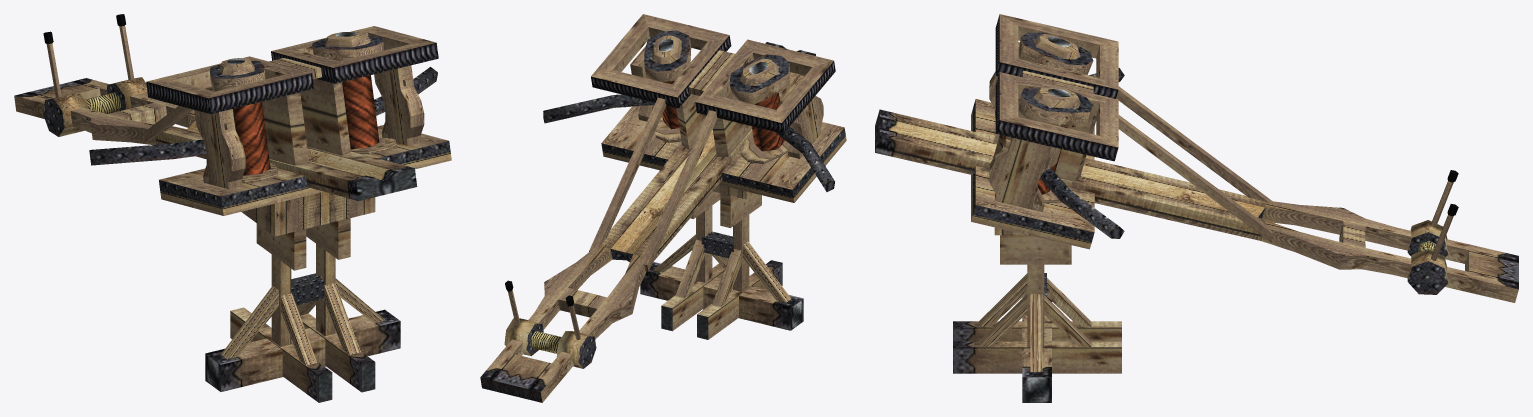
The model's file is kart_ballista.dae.
3 renders of one model, left to right at view 1: azimuth 30°, elevation 25°; view 2: azimuth 150°, elevation 25°; view 3: azimuth 270°, elevation 25°, orthographic. The views are drawn at different scales.
Visible parts, largest first — view 1: Cube; view 2: Cube; view 3: Cube.
Part boxes in pixels (bbox=[...]): Cube: bbox=[14, 14, 451, 402]; Cube: bbox=[480, 14, 846, 402]; Cube: bbox=[875, 14, 1518, 402].
Size of the model in its own units: 8.28 by 13.92 by 7.09.
